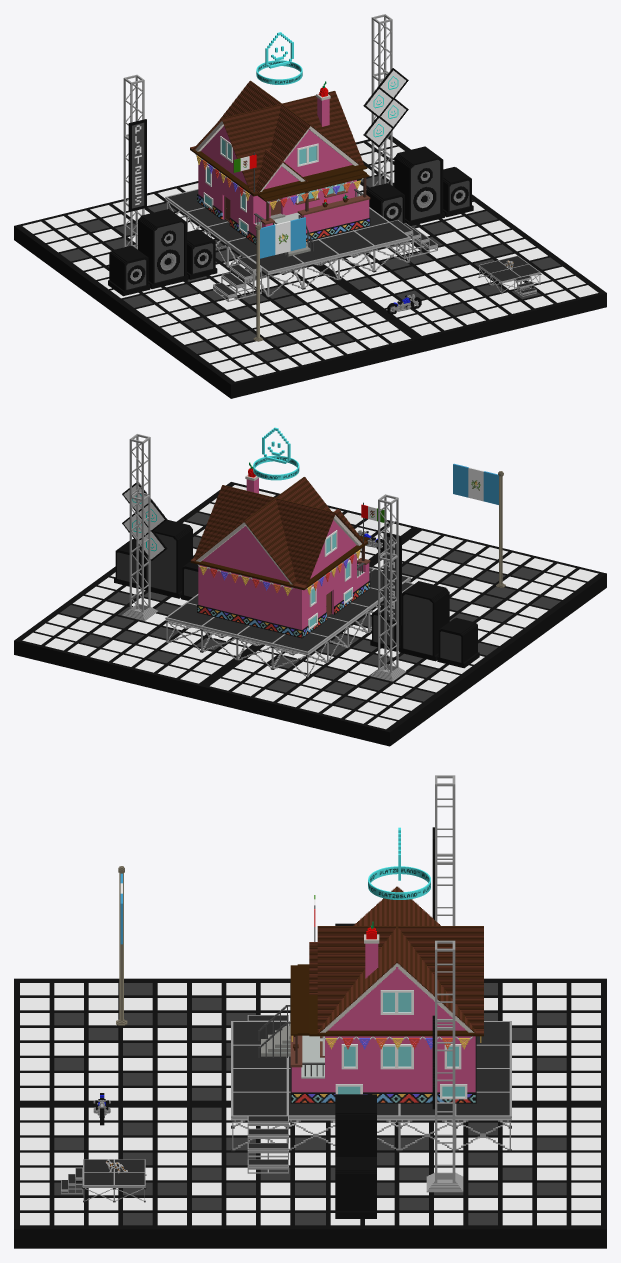
3 renders of one model, top to bottom at view 1: azimuth 30°, elevation 25°; view 2: azimuth 150°, elevation 25°; view 3: azimuth 270°, elevation 25°, orthographic. The views are drawn at different scales.
Parts seen in each view (by area): view 1: TERRAIN_DISCO_FLOOR, HOUSE_MEXICAN, OBJRANDOM_BANDERA, TYPE_PREMIUM; view 2: TERRAIN_DISCO_FLOOR, HOUSE_MEXICAN, OBJRANDOM_BANDERA, TYPE_PREMIUM; view 3: TERRAIN_DISCO_FLOOR, HOUSE_MEXICAN, TYPE_PREMIUM, OBJRANDOM_BANDERA.
Boxes of the visible parts, x1,y1,x2,y2 form: TERRAIN_DISCO_FLOOR: (14, 14, 606, 398); HOUSE_MEXICAN: (190, 80, 370, 257); OBJRANDOM_BANDERA: (253, 217, 305, 341); TYPE_PREMIUM: (256, 32, 302, 84); TERRAIN_DISCO_FLOOR: (14, 434, 606, 746); HOUSE_MEXICAN: (190, 462, 384, 638); OBJRANDOM_BANDERA: (453, 463, 505, 587); TYPE_PREMIUM: (253, 427, 299, 480); TERRAIN_DISCO_FLOOR: (14, 775, 606, 1248); HOUSE_MEXICAN: (258, 886, 483, 1103); TYPE_PREMIUM: (368, 827, 430, 899); OBJRANDOM_BANDERA: (116, 866, 127, 1025).
Bounding box in the file's own units: 4000 × 2283 × 4000.
26 materials, 19 textured.
